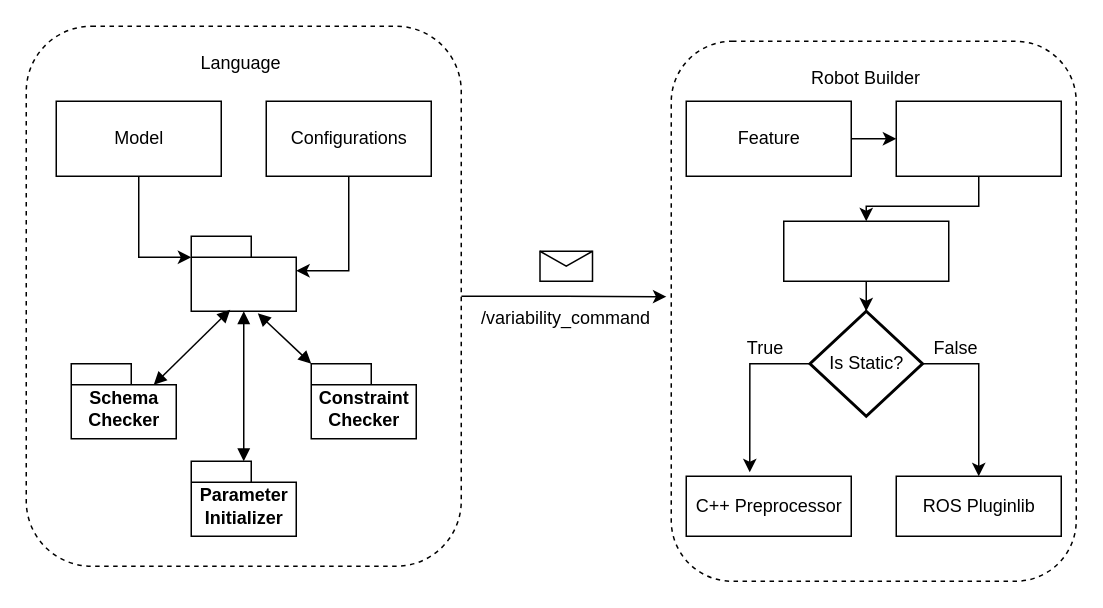
The diagram is 1103 pixels wide and 608 high, and some of its shapes have lost their labels. Here are the shapes that lost their labels. From the top down, the centre of each, then its label:
At pixel 978 138: "Configuration Properties".
At pixel 865 250: "Feature Instance".
At pixel 243 273: "MoTiVML".
